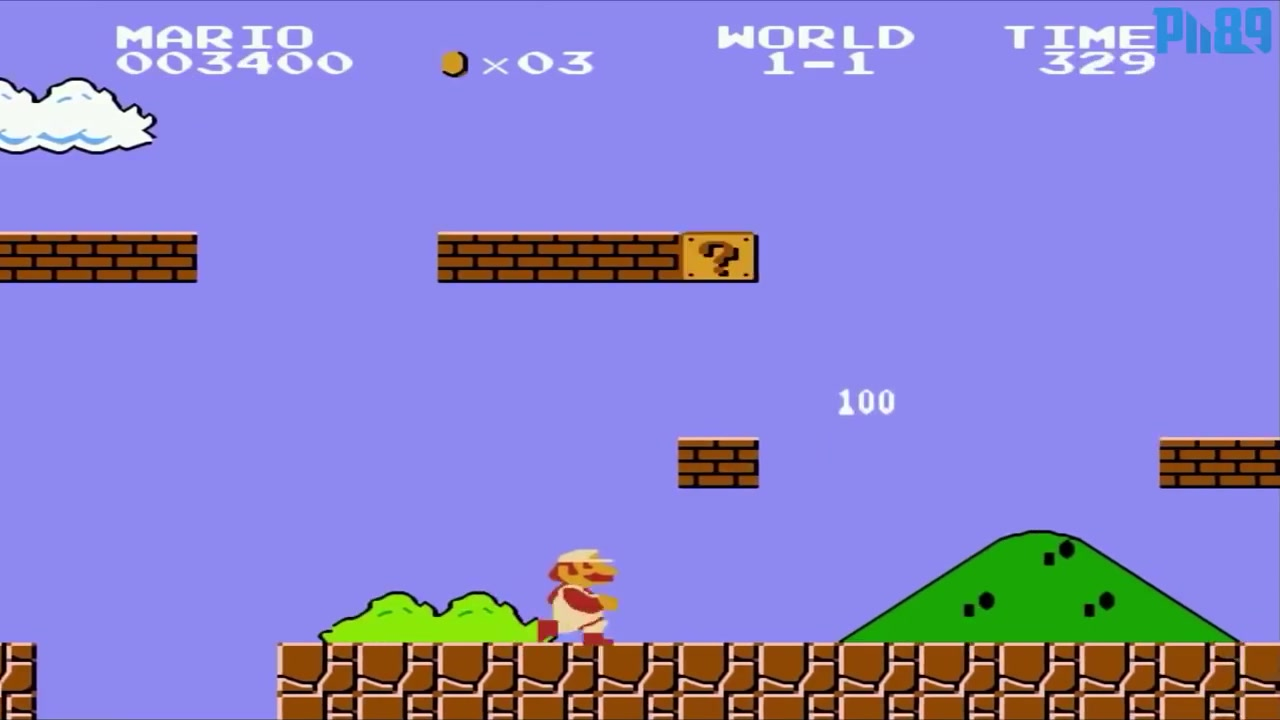mario: (536, 547, 624, 656)
